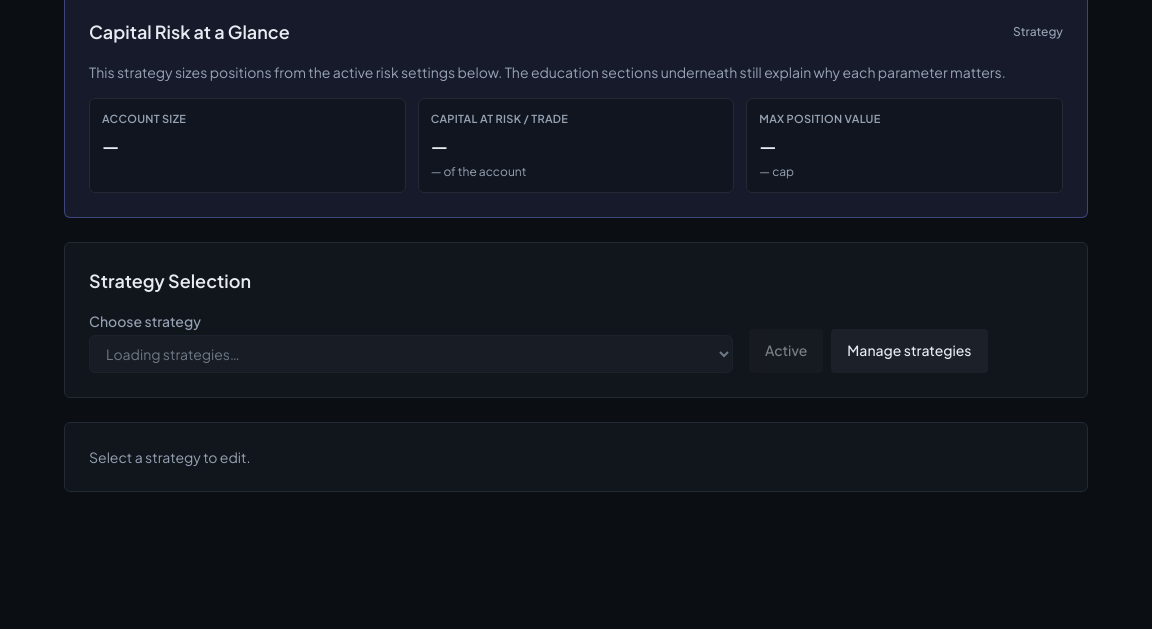
Test: Strategy Page › can save a strategy as new
The width and height of the screenshot is (1152, 629).
Click the button "Manage strategies" at (910, 350), box [831,328,988,372]
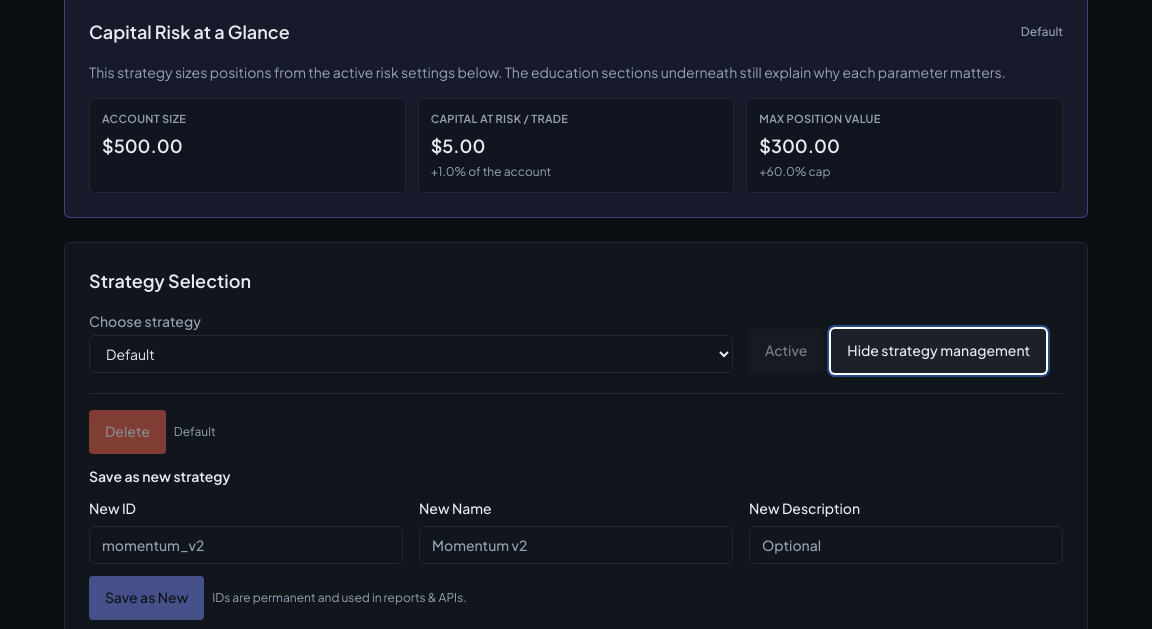
Type "breakout_v2" into the field labelled "New ID" at (246, 544), box [89,526,403,564]
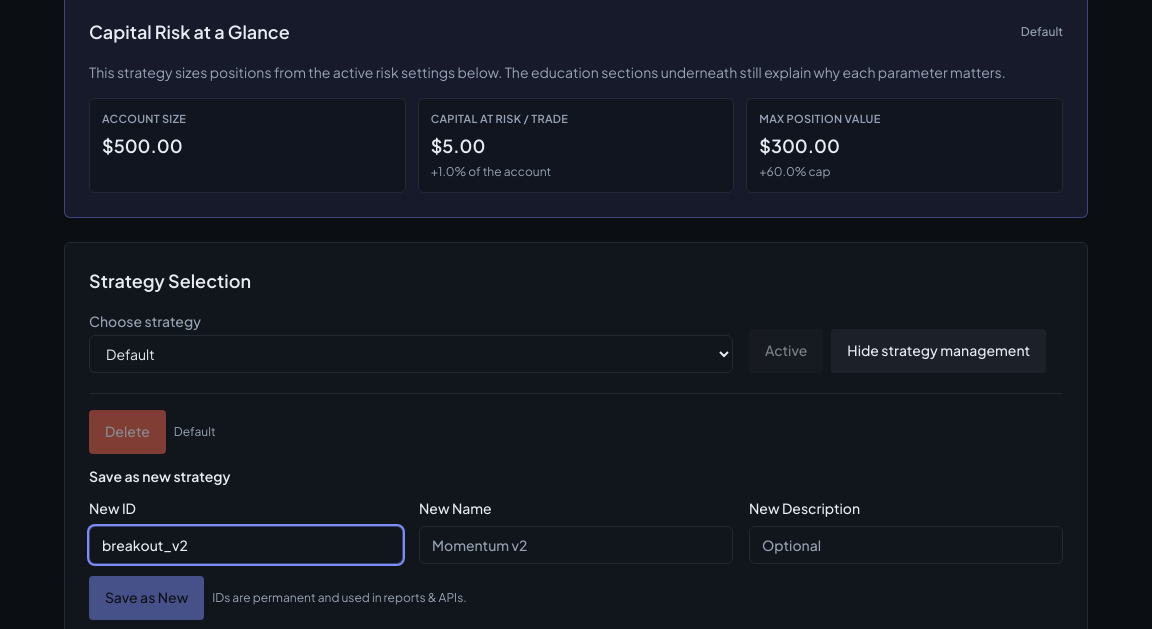
Type "Breakout v2" into the field labelled "New Name" at (576, 544), box [419,526,733,564]
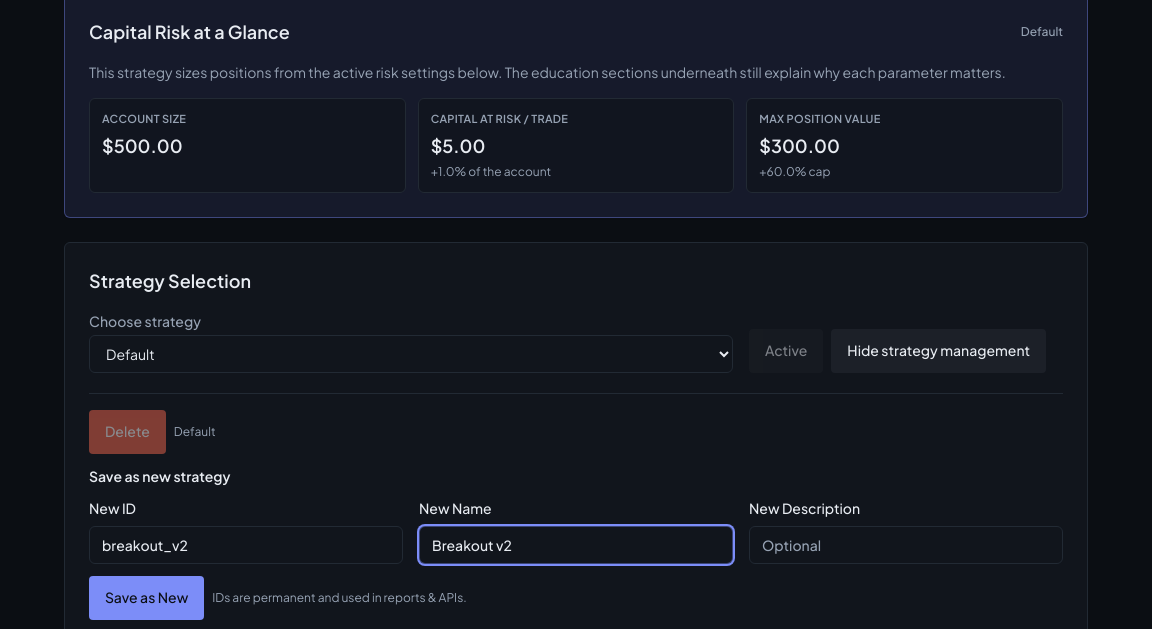
Click the button "Save as New" at (147, 598), box [89,576,204,620]
(page scrolled)
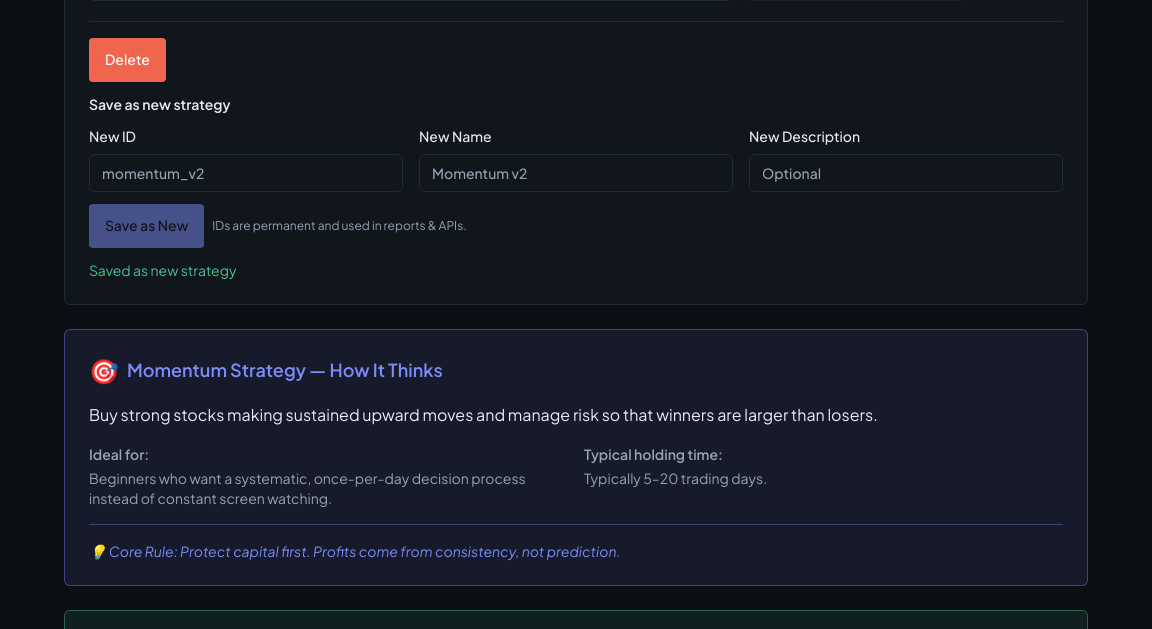
Check: the text "Saved as new strategy" is shown, box [89,260,236,278]
